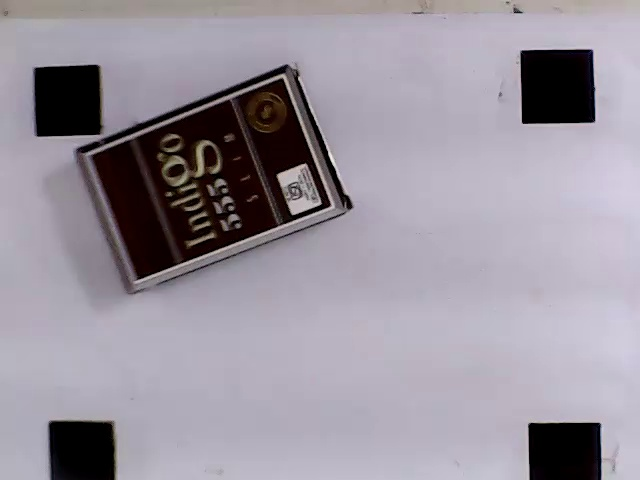BEX: (88, 76, 332, 282)
